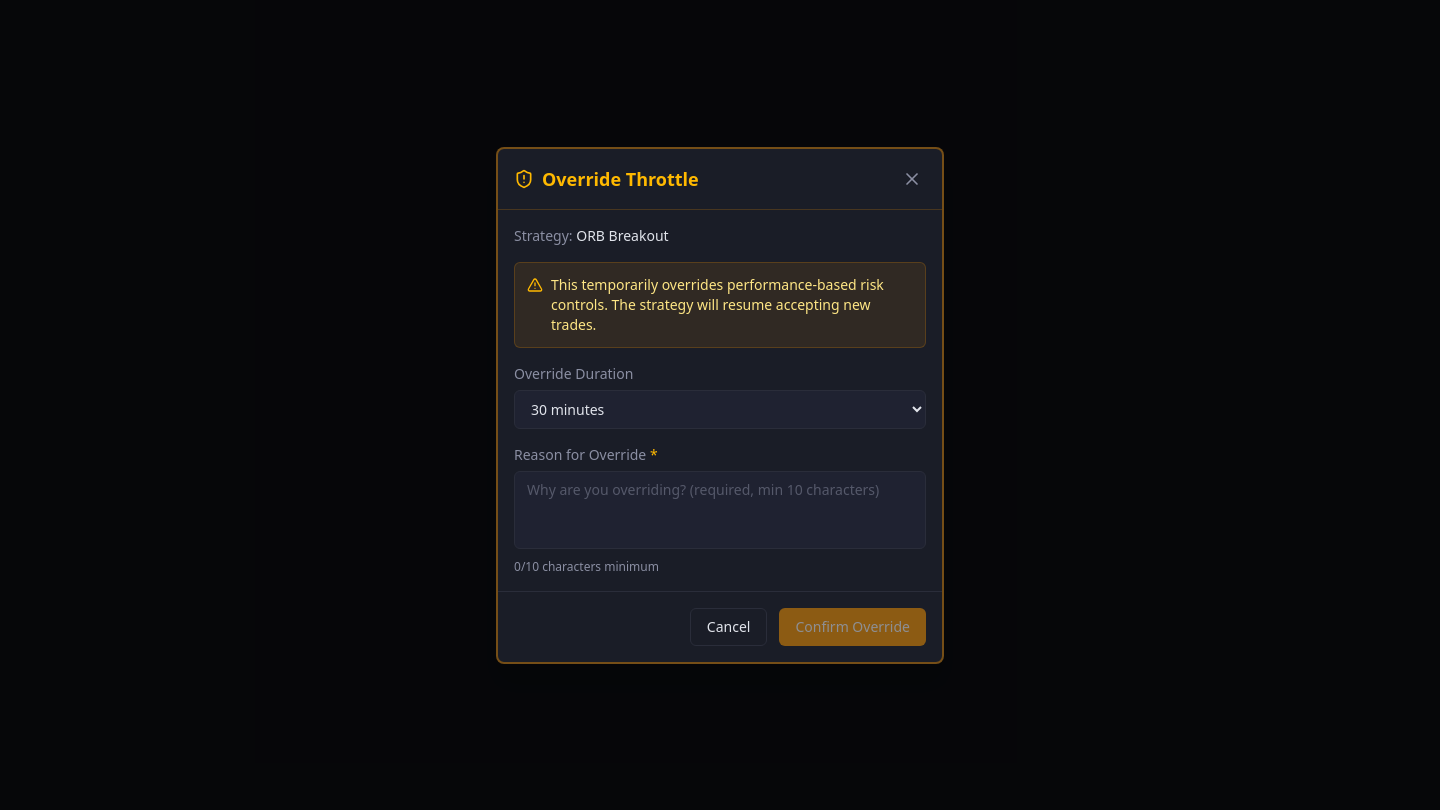
ThrottleOverrideDialog › renders when store.overrideDialogOpen is true and validates reason length
This screenshot has width=1440, height=810.
Expected: the heading "Override Throttle" is shown, [542, 164, 699, 192]
Expected: the text "ORB Breakout" is shown, [576, 226, 669, 244]
Type a short reason (less than 10 chars)
Type "short" into the text box with placeholder "Why are you overriding? (required, min 10 characters)" at (720, 510), box [514, 470, 926, 548]
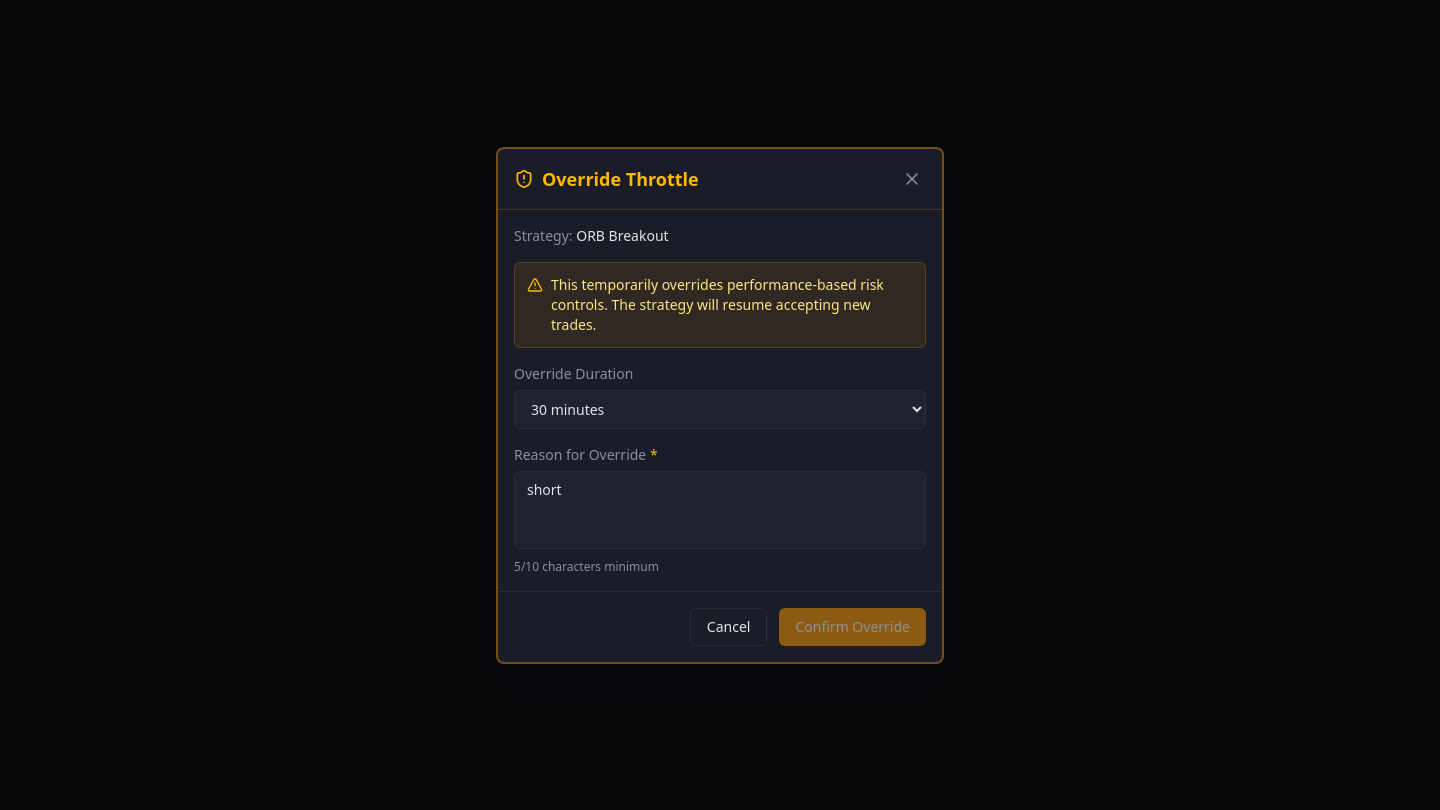
Expected: the button "Confirm Override" is disabled, [780, 608, 926, 646]
Type a valid reason (10+ chars)
Replace the text in the text box with placeholder "Why are you overriding? (required, min 10 characters)" with "This is a valid reason for override" at (720, 510), box [514, 470, 926, 548]
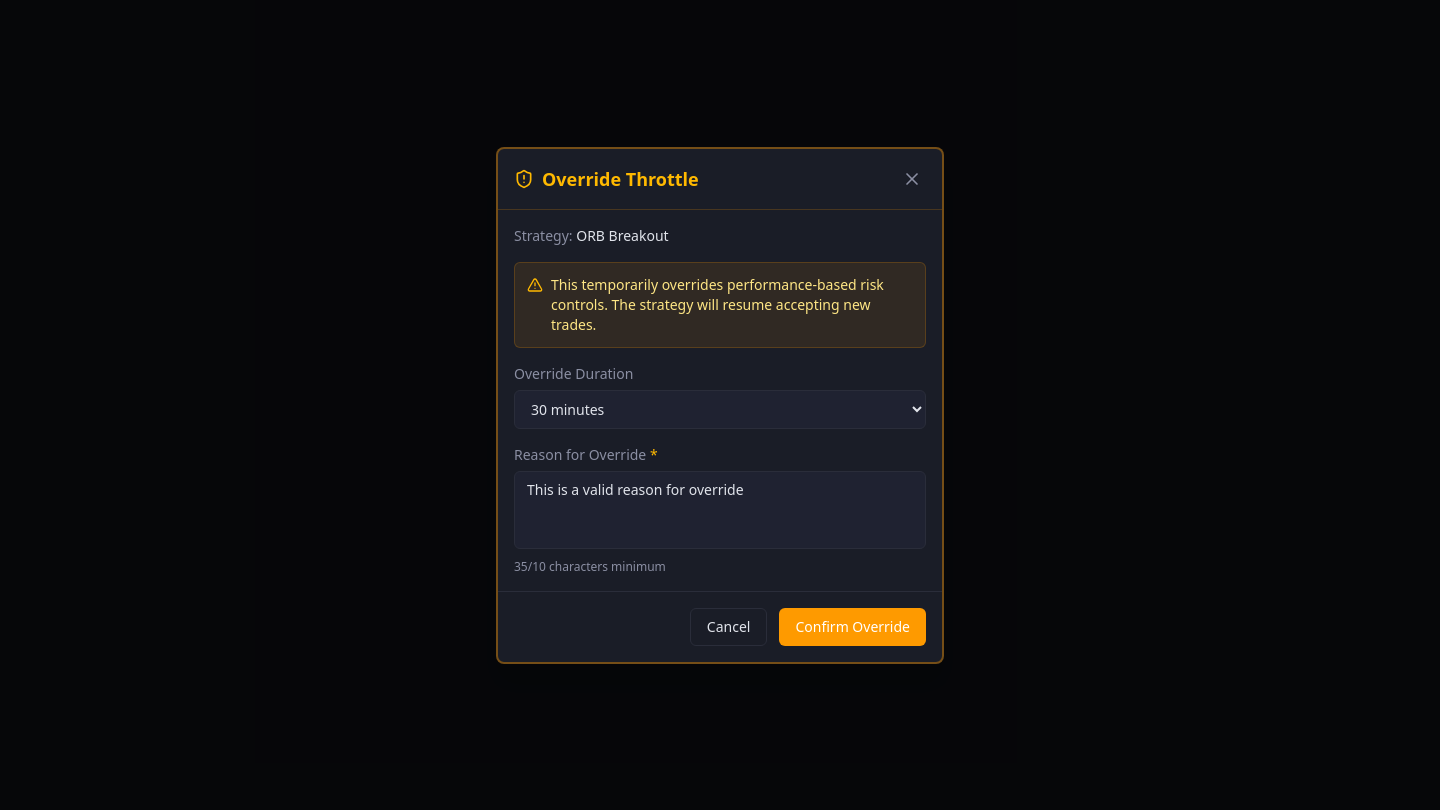
Expected: the button "Confirm Override" is enabled, [780, 608, 926, 646]
